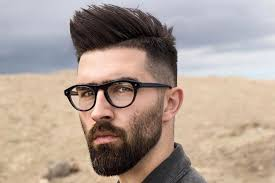b.y: (84, 121, 130, 177)
